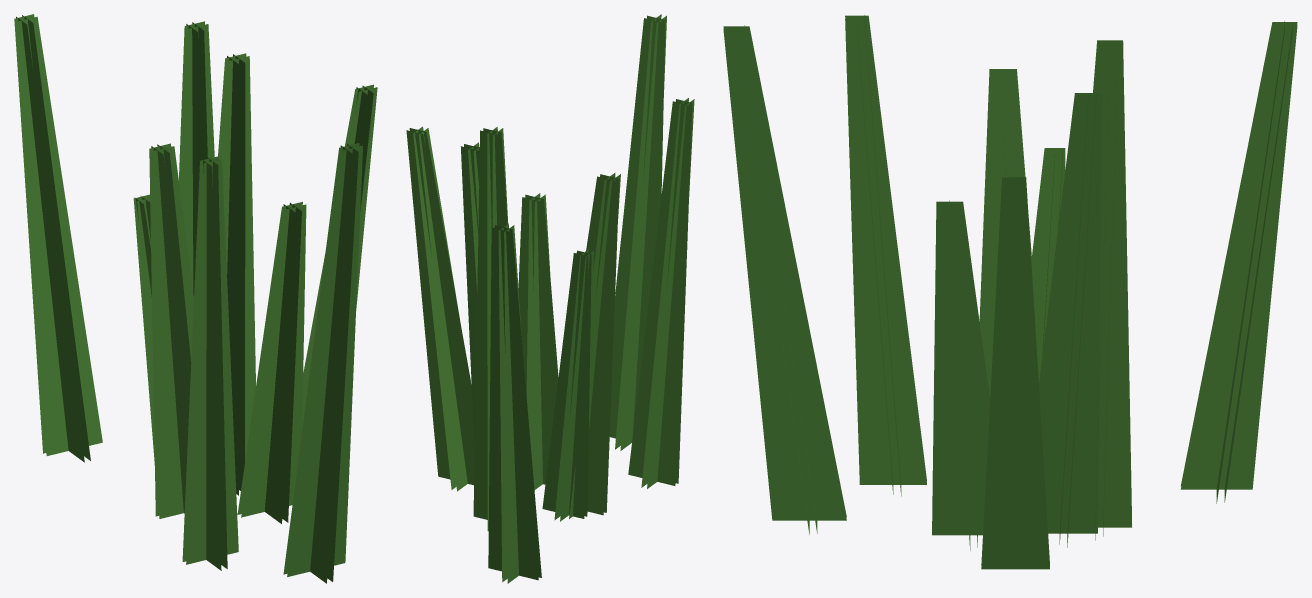
The model's file is grass_tuft_lush.glb.
3 views of the same model, side by side, from view 1: azimuth 30°, elevation 25°; view 2: azimuth 150°, elevation 25°; view 3: azimuth 270°, elevation 25° (orthographic). The views are drawn at different scales.
Parts seen in each view (by area): view 1: grass_tuft_lush; view 2: grass_tuft_lush; view 3: grass_tuft_lush.
Part boxes in pixels (left/top/right/bottom): grass_tuft_lush: left=14, top=14, right=377, bottom=583; grass_tuft_lush: left=406, top=14, right=694, bottom=583; grass_tuft_lush: left=723, top=15, right=1297, bottom=569.
Size of the model in its own units: 0.2394 by 0.4142 by 0.4373.
